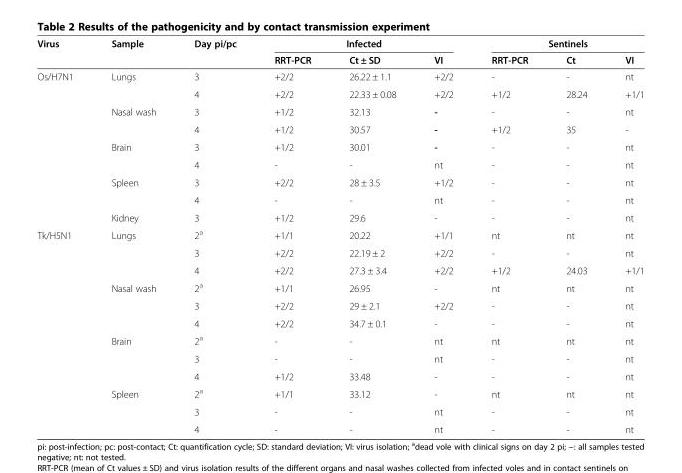table: (36, 37, 643, 434)
table column: (329, 37, 414, 434), (91, 37, 174, 434), (174, 37, 254, 434), (254, 37, 329, 434), (471, 37, 546, 434), (546, 37, 605, 434), (414, 37, 471, 434), (36, 37, 91, 434), (605, 37, 643, 434)
table column header: (36, 37, 643, 67)
table row: (36, 67, 643, 85), (36, 102, 643, 120), (36, 137, 643, 155), (36, 155, 643, 173), (36, 190, 643, 208), (36, 225, 643, 243), (36, 243, 643, 261), (36, 278, 643, 296), (36, 296, 643, 314), (36, 331, 643, 349), (36, 349, 643, 367), (36, 384, 643, 402), (36, 402, 643, 420), (36, 85, 643, 102), (36, 120, 643, 137), (36, 173, 643, 190), (36, 208, 643, 225), (36, 261, 643, 278), (36, 314, 643, 331), (36, 367, 643, 384), (36, 51, 643, 67), (36, 37, 643, 51), (36, 420, 643, 434)
table spanning cell: (36, 225, 91, 434), (36, 67, 91, 225), (91, 225, 174, 278), (91, 278, 174, 331), (91, 331, 174, 384), (91, 384, 174, 434), (254, 37, 471, 51), (91, 137, 174, 173), (91, 67, 174, 102), (91, 102, 174, 137), (91, 173, 174, 208), (91, 37, 174, 67), (471, 37, 643, 51), (174, 37, 254, 67), (36, 37, 91, 67)
